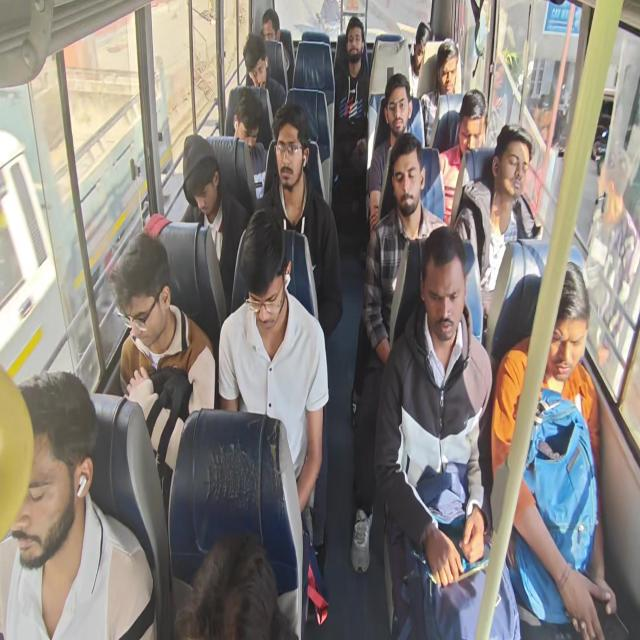person: (0, 374, 95, 582), (112, 237, 174, 348), (242, 218, 283, 330), (550, 286, 588, 390), (426, 234, 463, 340), (270, 110, 314, 196), (496, 128, 534, 198), (183, 139, 216, 218), (392, 142, 424, 215), (228, 96, 262, 152), (413, 8, 438, 82), (242, 44, 275, 97), (384, 76, 413, 132), (459, 97, 485, 158), (258, 6, 290, 51), (434, 41, 456, 95), (348, 13, 367, 69)
